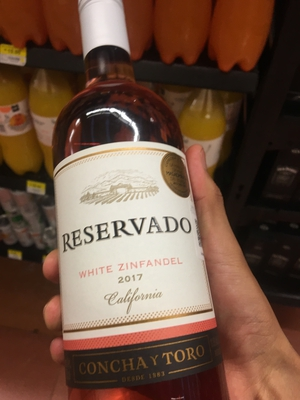reservado white zinfandel: (44, 22, 229, 391)
